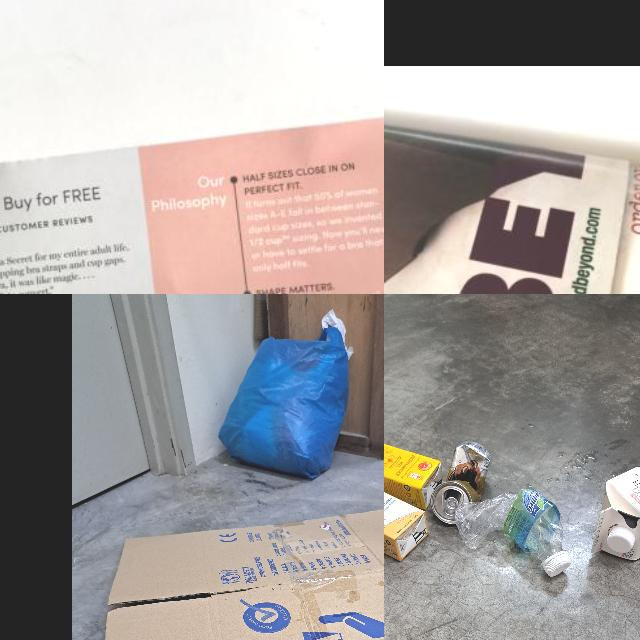aba de lata: (444, 498, 458, 516)
caixinha: (591, 423, 640, 562), (384, 433, 441, 510), (384, 471, 428, 561)
garrafa plástica: (453, 489, 562, 561)
lata: (432, 440, 492, 522)
papel: (0, 112, 384, 294), (384, 84, 640, 294)
papelão: (76, 503, 384, 640)
sacola plástica: (218, 327, 349, 481)
tampa plástica: (607, 527, 635, 553), (542, 554, 572, 576)
